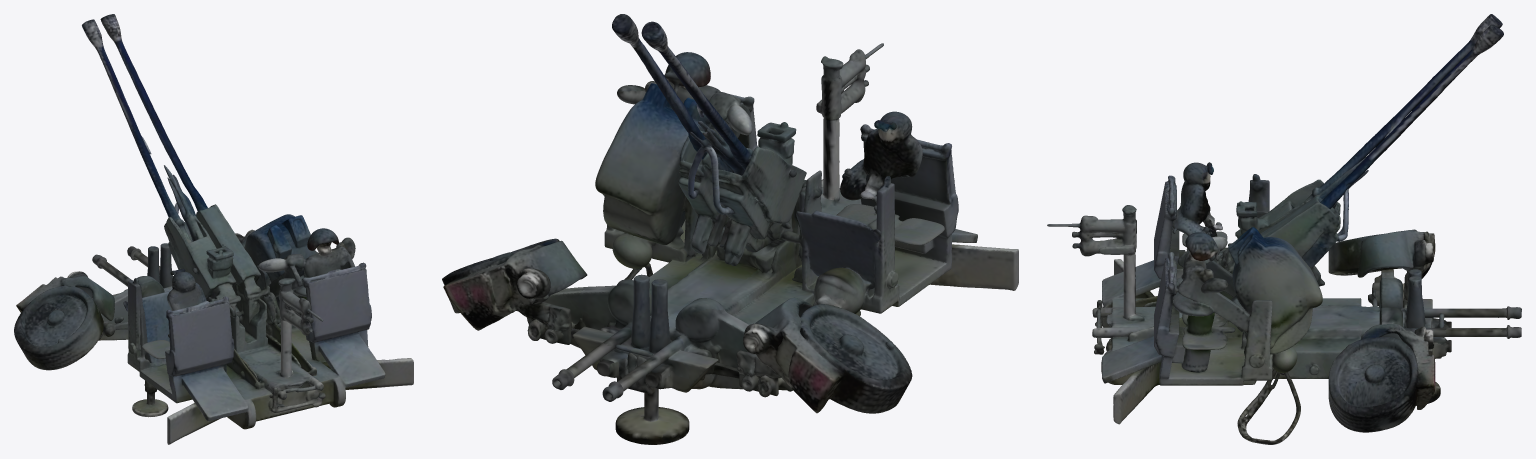
Rendered from AAA.fbx.
3 renders of one model, left to right at view 1: azimuth 30°, elevation 25°; view 2: azimuth 150°, elevation 25°; view 3: azimuth 270°, elevation 25°, orthographic. The views are drawn at different scales.
Parts seen in each view (by area): view 1: tripo_node_3db0f3d2; view 2: tripo_node_3db0f3d2; view 3: tripo_node_3db0f3d2.
Boxes of the visible parts, x1,y1,x2,y2 form: tripo_node_3db0f3d2: (14,14,413,444); tripo_node_3db0f3d2: (442,14,1018,444); tripo_node_3db0f3d2: (1047,14,1521,444).
Bounding box in the file's own units: 0.8658 × 0.8358 × 1.
